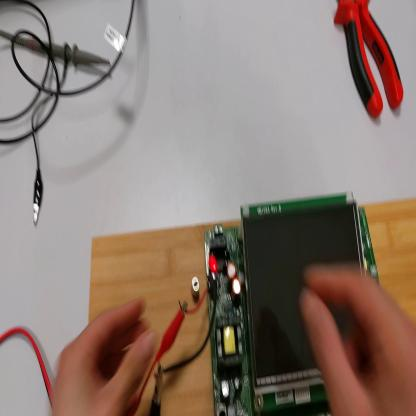hand: (302, 264, 416, 415), (53, 301, 158, 415)
low voltage board: (156, 191, 378, 415)
oscilloscope probe tip: (6, 35, 110, 67)
pliers: (337, 1, 405, 120)
working area: (91, 198, 415, 415)
